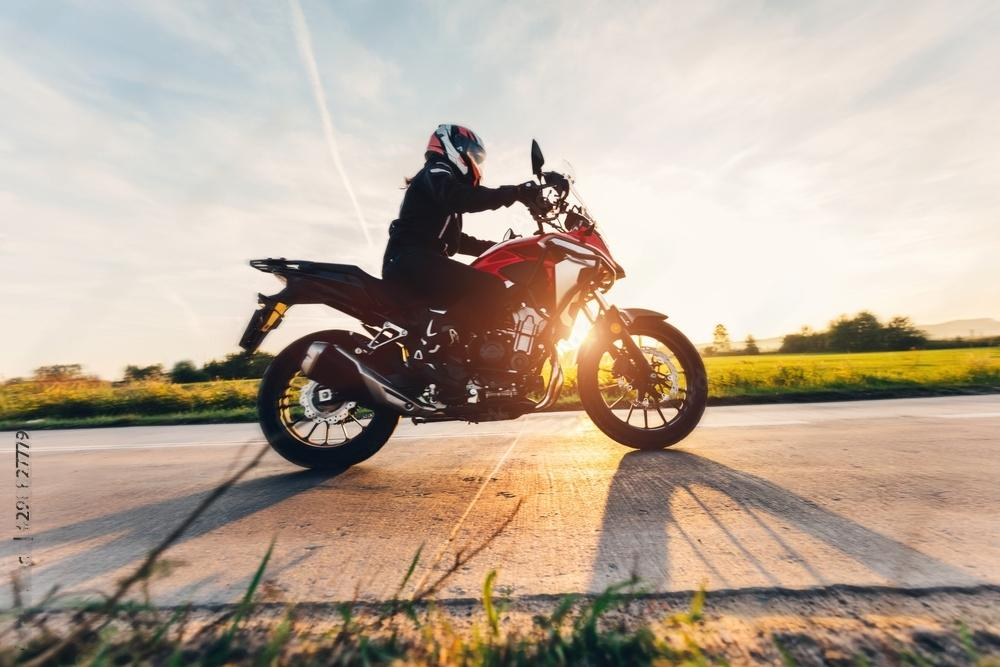helmet: (423, 122, 487, 192)
